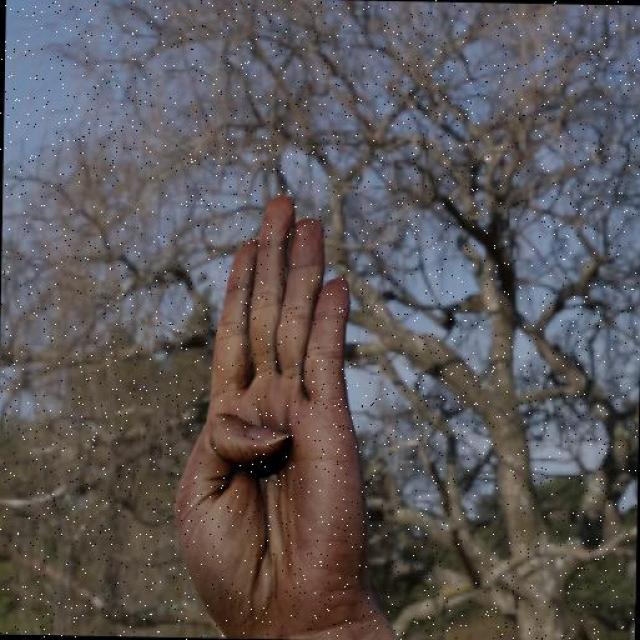B: (168, 186, 383, 625)
